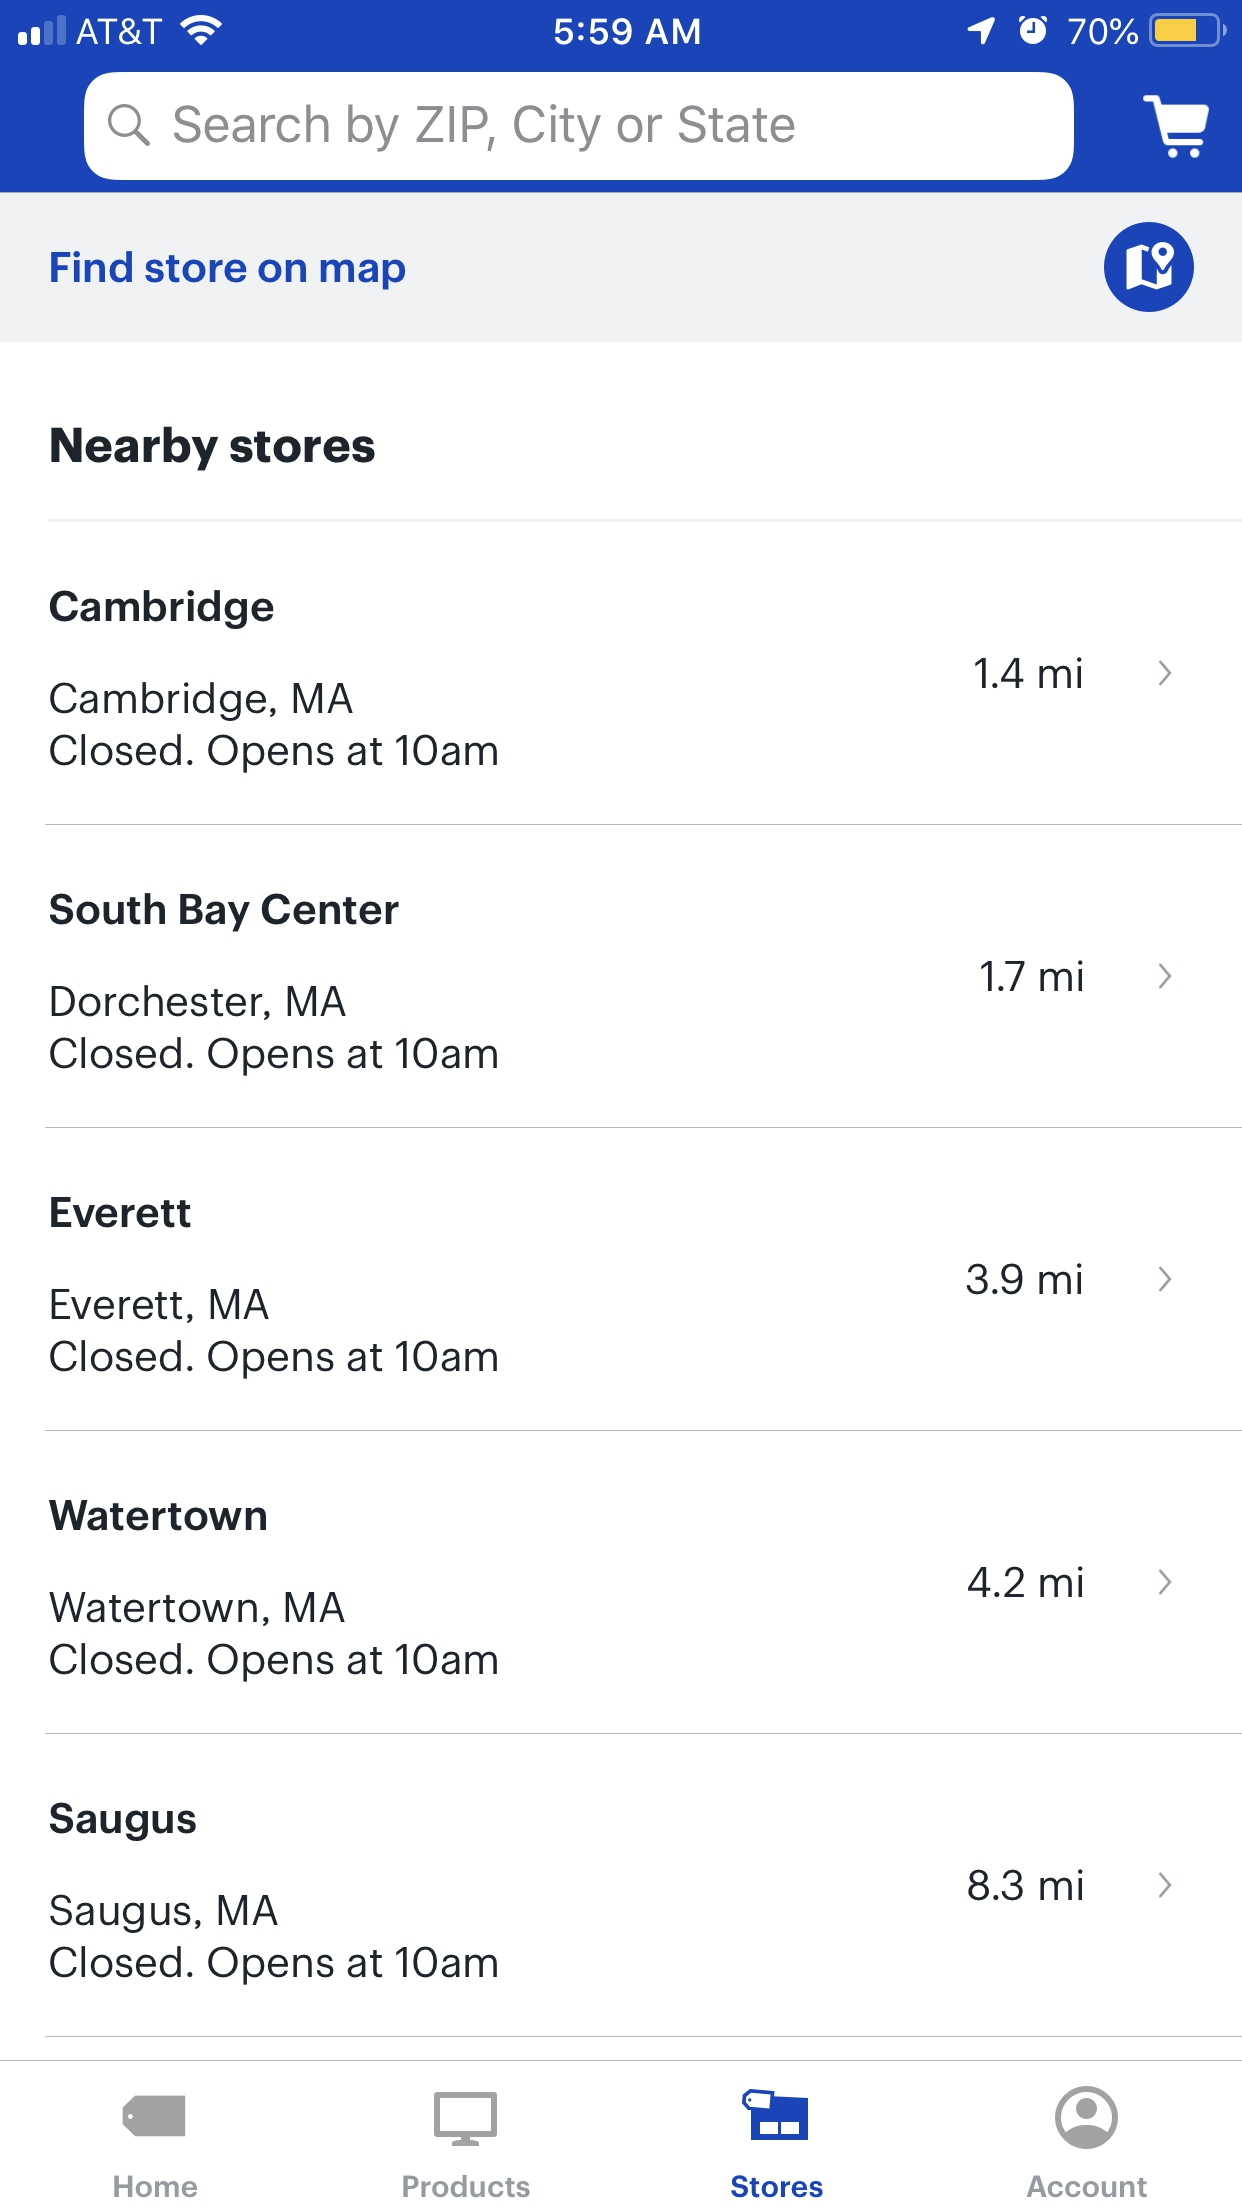EditText: (83, 73, 1074, 180)
Icon: (1102, 221, 1193, 312), (1142, 96, 1209, 161), (1055, 2087, 1119, 2150), (123, 2094, 187, 2137), (109, 105, 152, 147), (1159, 1871, 1174, 1899), (1159, 660, 1172, 687), (1159, 963, 1172, 990), (1159, 1266, 1172, 1292), (1159, 1570, 1172, 1595)
Image: (434, 2093, 497, 2147), (742, 2090, 808, 2141)
Text: (50, 682, 497, 775), (50, 984, 497, 1077), (174, 105, 796, 153), (50, 1339, 499, 1380), (50, 1642, 497, 1683), (50, 1946, 497, 1987), (52, 426, 376, 472), (52, 252, 406, 291), (50, 893, 400, 933), (49, 1591, 346, 1627), (50, 590, 274, 631), (52, 1894, 281, 1934), (52, 1287, 271, 1322), (49, 1500, 267, 1532), (50, 1802, 199, 1843), (52, 1197, 193, 1228), (966, 1262, 1083, 1295), (968, 1868, 1083, 1902), (968, 1567, 1083, 1598), (980, 958, 1083, 992), (975, 657, 1083, 688), (403, 2175, 531, 2197), (1027, 2175, 1148, 2197), (731, 2175, 823, 2197), (114, 2175, 199, 2197)
UpperTaskBar: (2, 2, 1242, 49)
